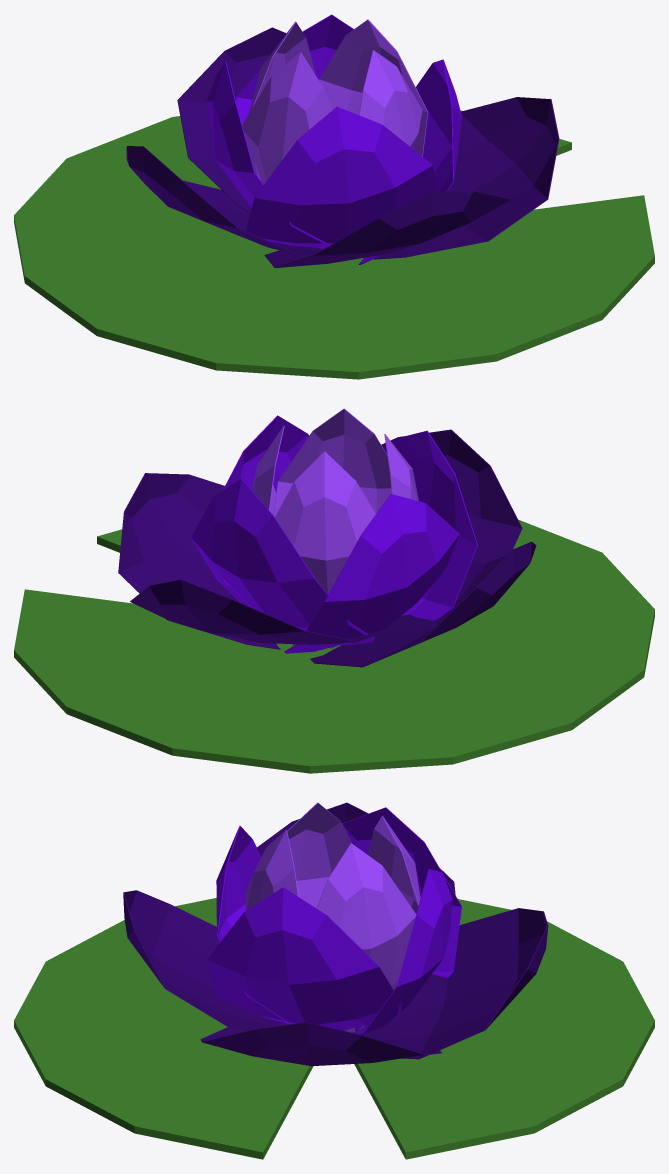
File: Foliage_10.fbx
3 views of the same model, one above another, from view 1: azimuth 30°, elevation 25°; view 2: azimuth 150°, elevation 25°; view 3: azimuth 270°, elevation 25° (orthographic).
Visible parts, largest first — view 1: Foliage_10; view 2: Foliage_10; view 3: Foliage_10.
Boxes of the visible parts, left/top/right/bottom form: Foliage_10: left=14, top=14, right=654, bottom=379; Foliage_10: left=14, top=408, right=654, bottom=773; Foliage_10: left=14, top=802, right=654, bottom=1159.
Size of the model in its own units: 55.39 by 21.67 by 56.81.
